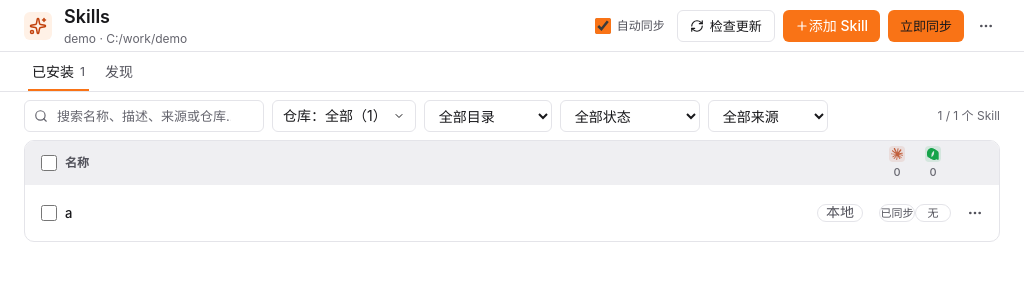
a failed sync reports the backend reason instead of failing silently
What coordinates should you click on to do the following:
click the button "立即同步"
I would click on:
 (926, 26)
Its box is [888,10,964,42].
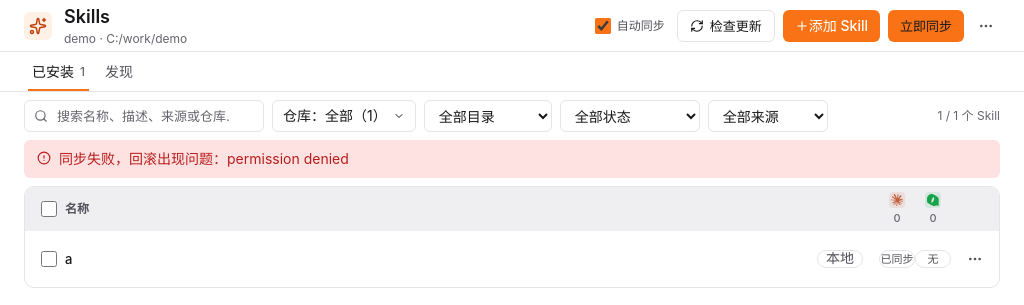
expect the text "同步失败，回滚出现问题：permission denied" is shown: met, box [59,149,349,169]
